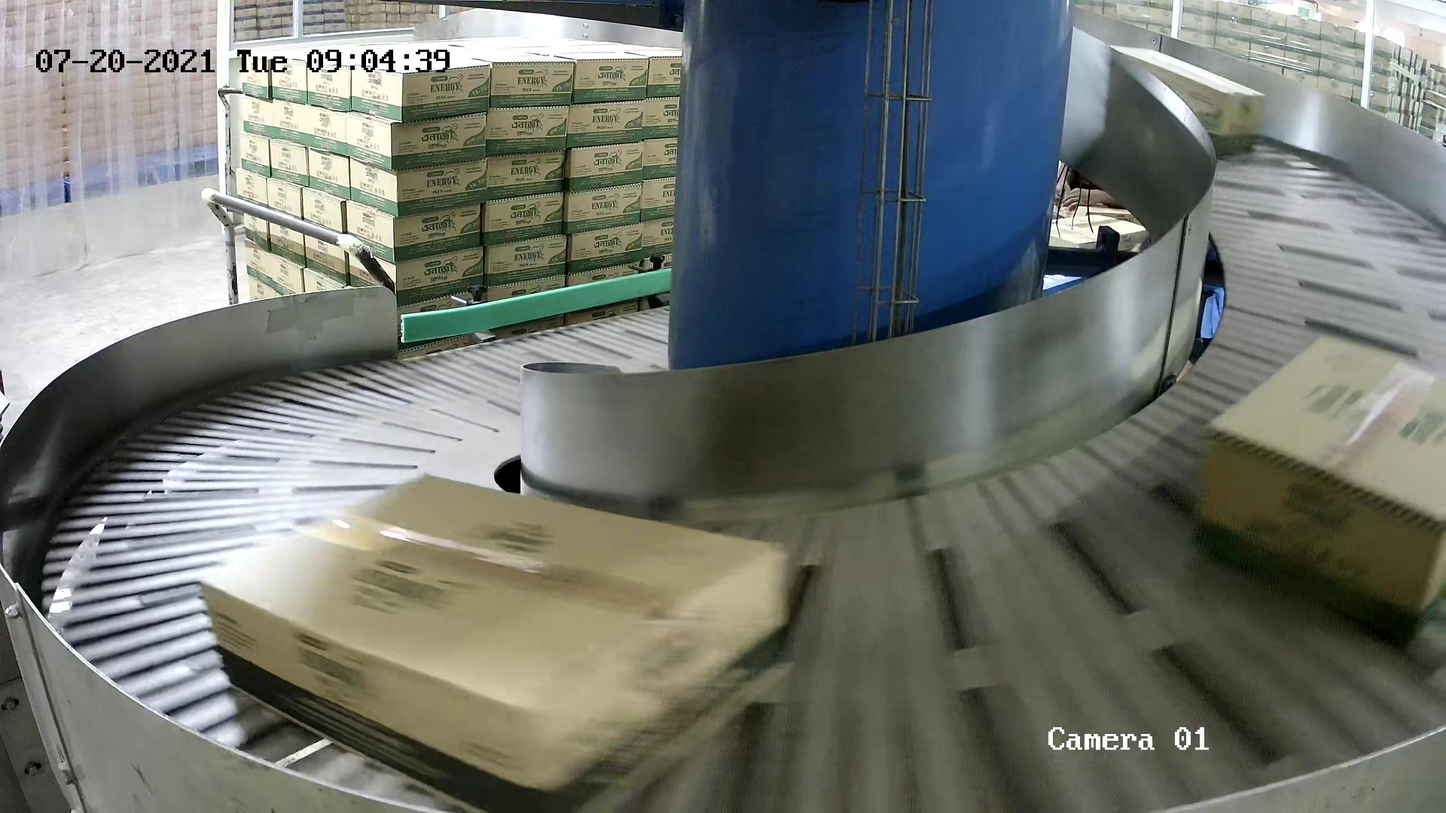Box: (198, 470, 796, 813), (1191, 332, 1446, 654), (1097, 44, 1267, 156)
